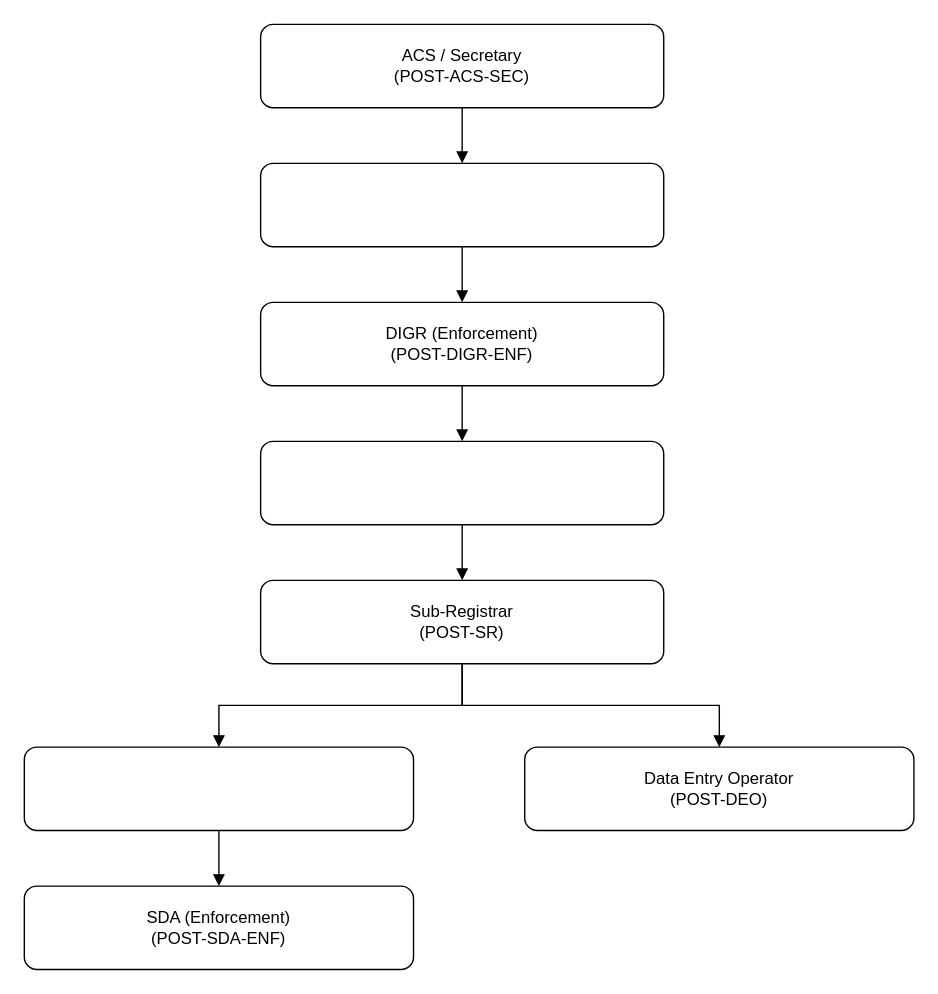
Some shapes in this 938 by 994 pixel diagram are drawn without their labels. The shapes that lost their labels are listed below. From the top down, each one's centre as x and y in pixels, then its label:
(x=461, y=204): IGR (POST-IGR)
(x=461, y=482): District Registrar (POST-DRO)
(x=218, y=788): FDA (Enforcement) (POST-FDA-ENF)
